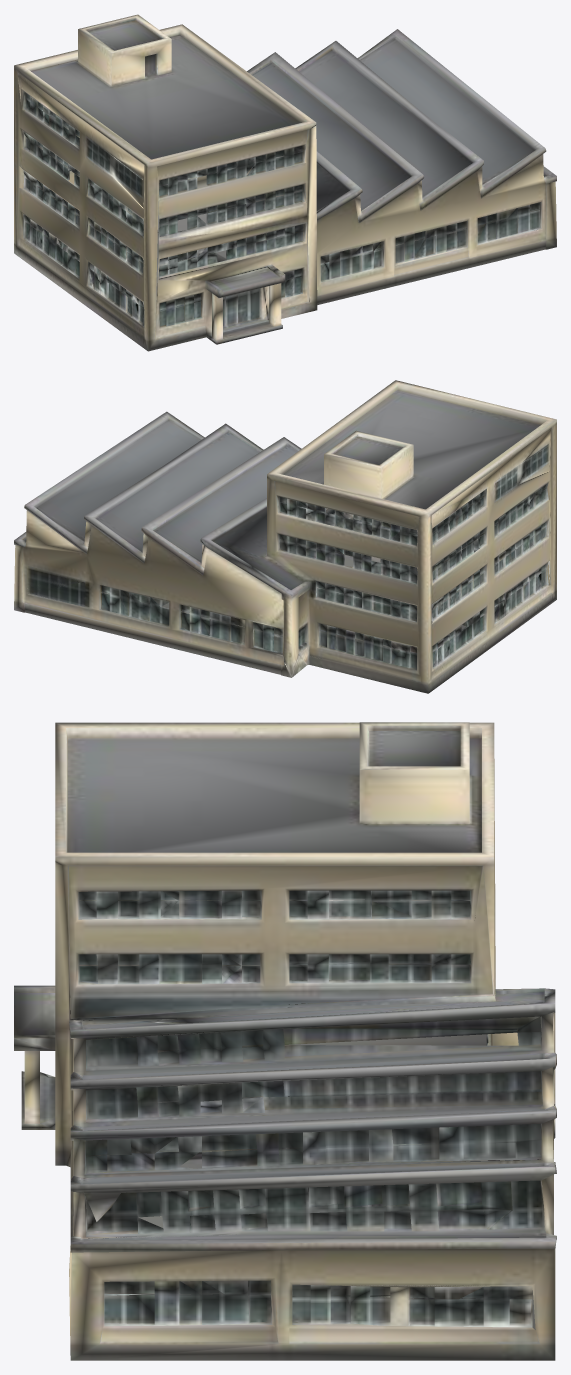
Rendered from cloth.glb.
3 views of the same model, one above another, from view 1: azimuth 30°, elevation 25°; view 2: azimuth 150°, elevation 25°; view 3: azimuth 270°, elevation 25° (orthographic). The views are drawn at different scales.
Visible parts, largest first — view 1: cloth; view 2: cloth; view 3: cloth.
Boxes of the visible parts, box(x1,y1,x2,y2) form: cloth: box(14, 14, 556, 351); cloth: box(14, 380, 556, 693); cloth: box(14, 722, 556, 1360).
Size of the model in its own units: 1 by 0.4989 by 0.6947.
Materials: 1 (1 with a texture image).
